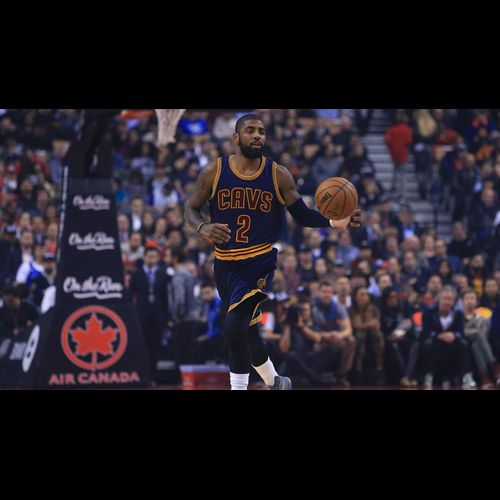ball: (314, 177, 356, 218)
